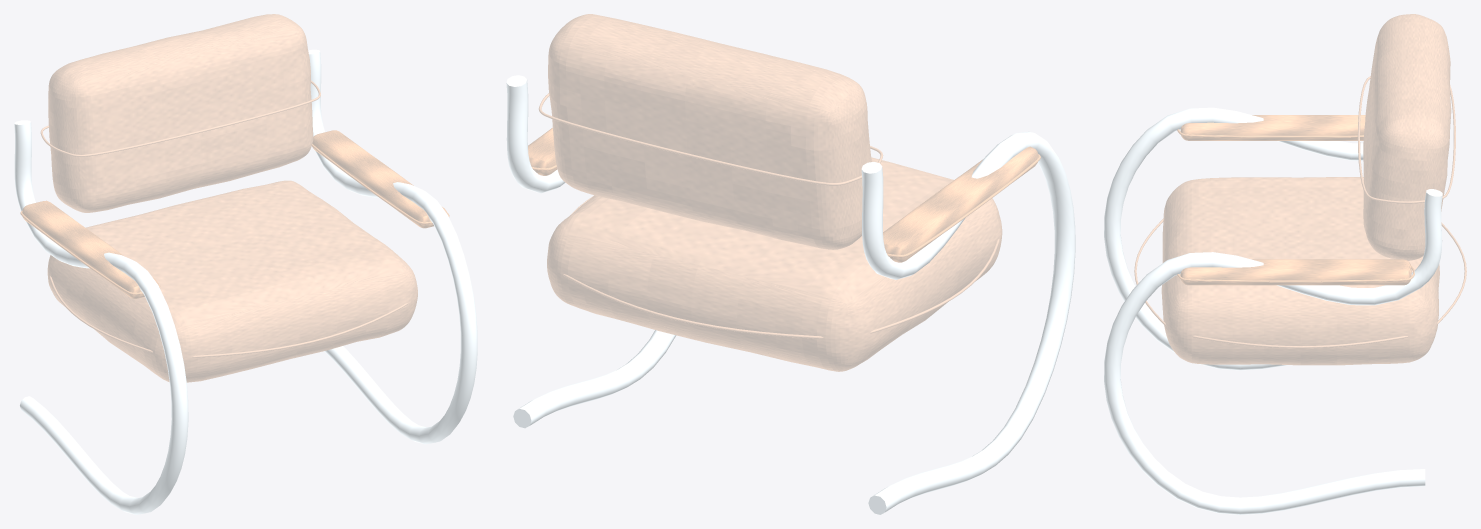
The model's file is ref07_09.glb.
3 renders of one model, left to right at view 1: azimuth 30°, elevation 25°; view 2: azimuth 150°, elevation 25°; view 3: azimuth 270°, elevation 25°, orthographic. The views are drawn at different scales.
Visible parts, largest first — view 1: ref07_09; view 2: ref07_09; view 3: ref07_09.
Part boxes in pixels (x1,y1,x2,y2): ref07_09: (14, 14, 477, 514); ref07_09: (506, 14, 1075, 514); ref07_09: (1104, 14, 1466, 514).
Bounding box in the file's own units: 0.8366 × 0.902 × 0.7853.
Materials: 3 (2 with a texture image).
